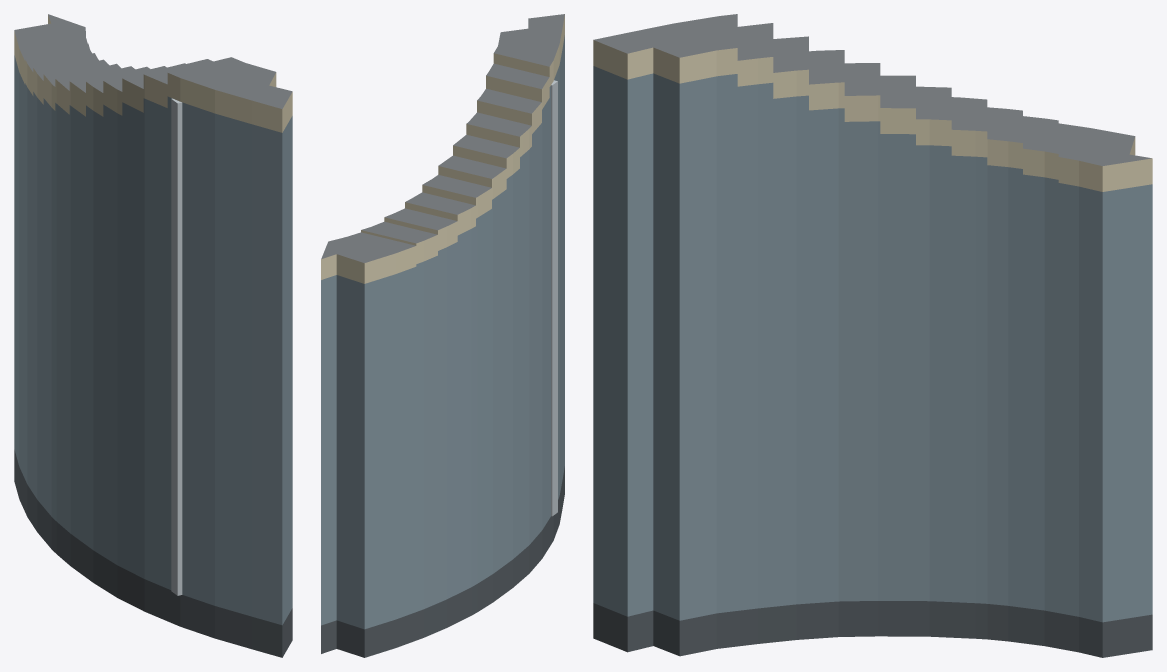
Rendered from aria_east.glb.
3 views of the same model, side by side, from view 1: azimuth 30°, elevation 25°; view 2: azimuth 150°, elevation 25°; view 3: azimuth 270°, elevation 25° (orthographic). The views are drawn at different scales.
Parts seen in each view (by area): view 1: EastTower; view 2: EastTower; view 3: EastTower.
Boxes of the visible parts, left/top/right/bottom form: EastTower: left=14, top=14, right=292, bottom=657; EastTower: left=321, top=14, right=564, bottom=657; EastTower: left=593, top=14, right=1152, bottom=657.
Size of the model in its own units: 35.87 by 185 by 157.
